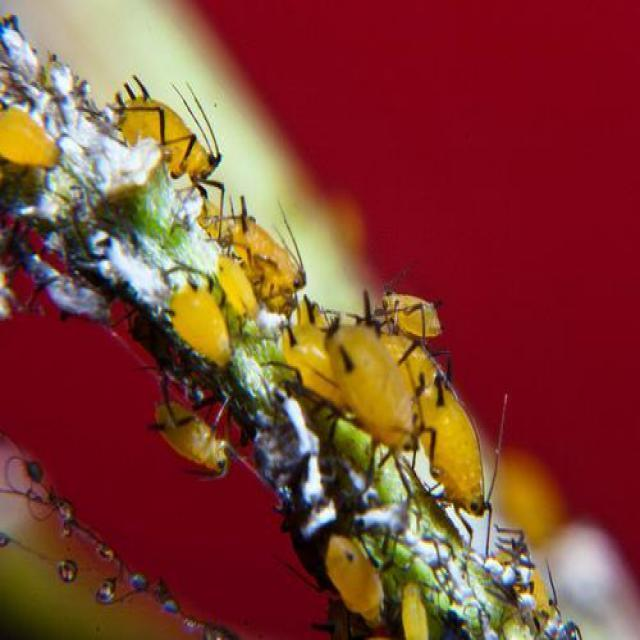aphid: (93, 62, 585, 638), (112, 72, 235, 204), (0, 98, 65, 192)
